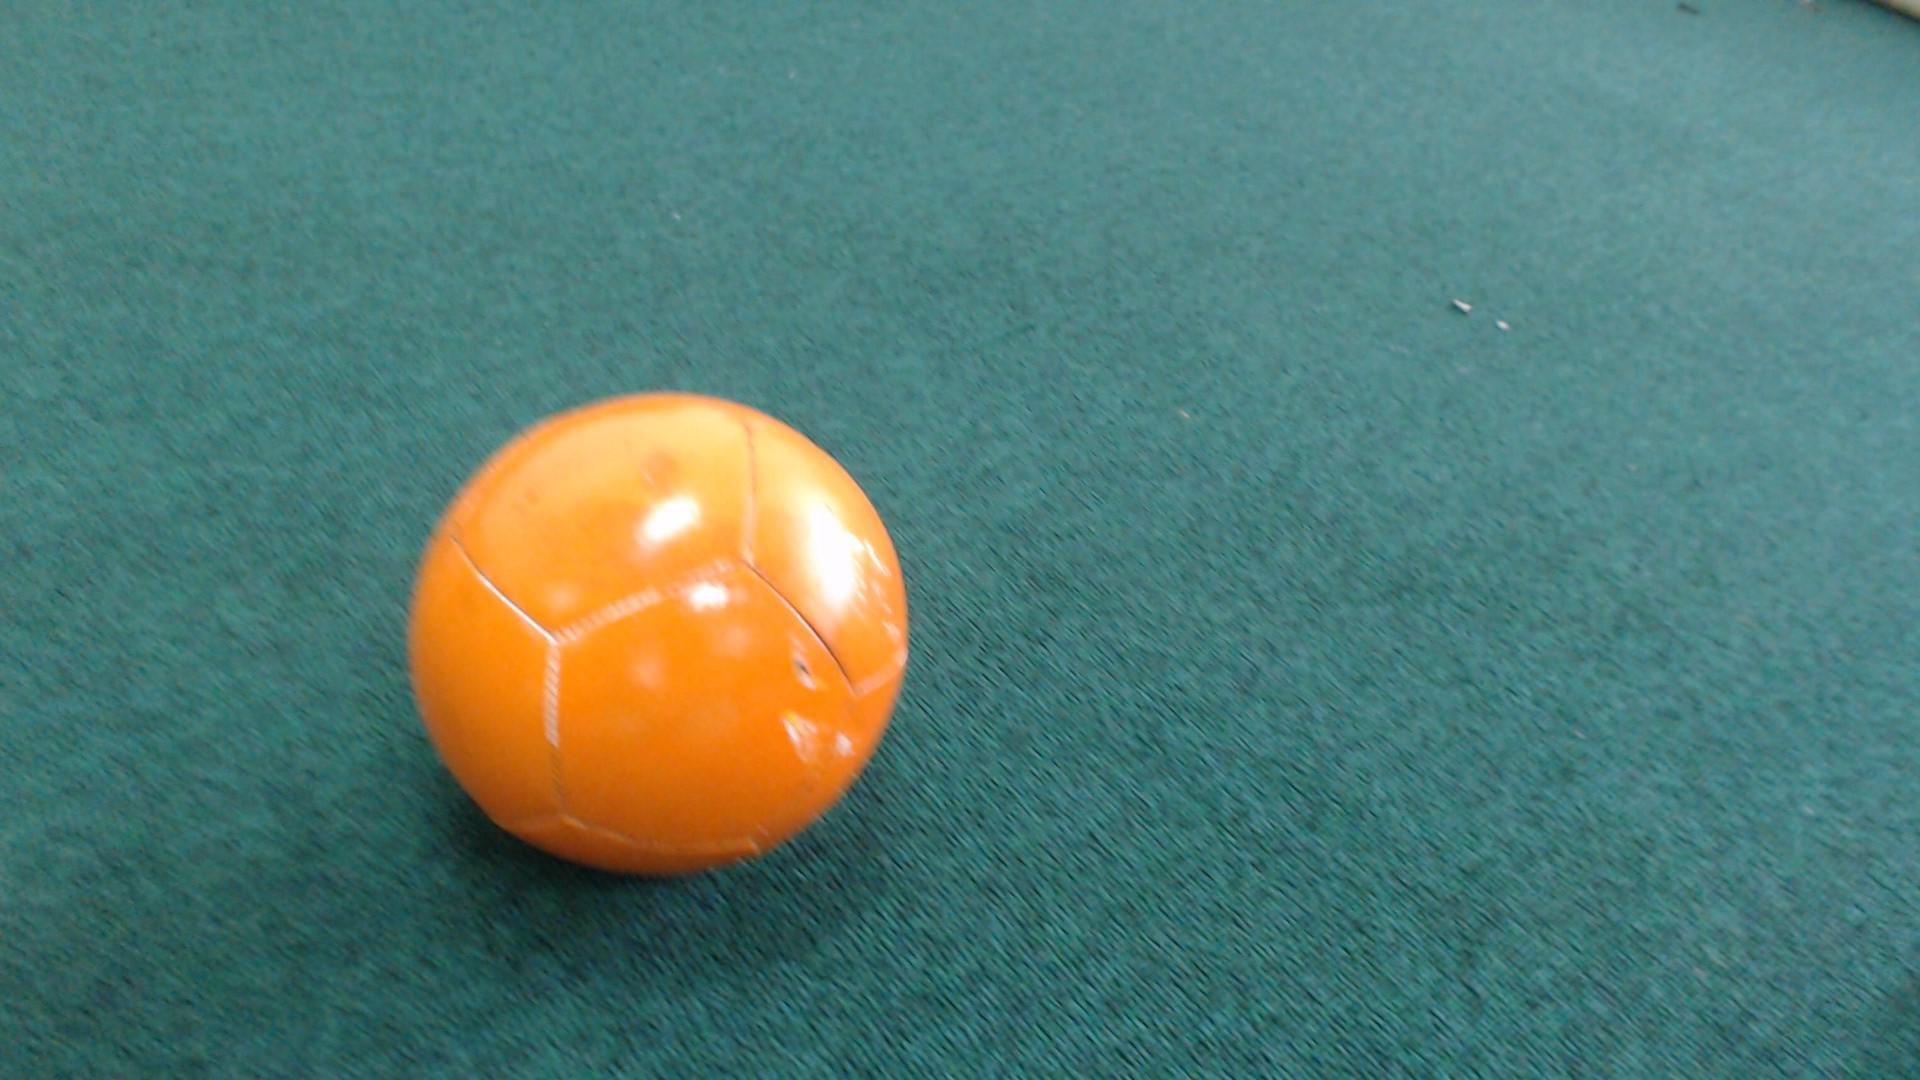bola: (388, 389, 932, 899)
